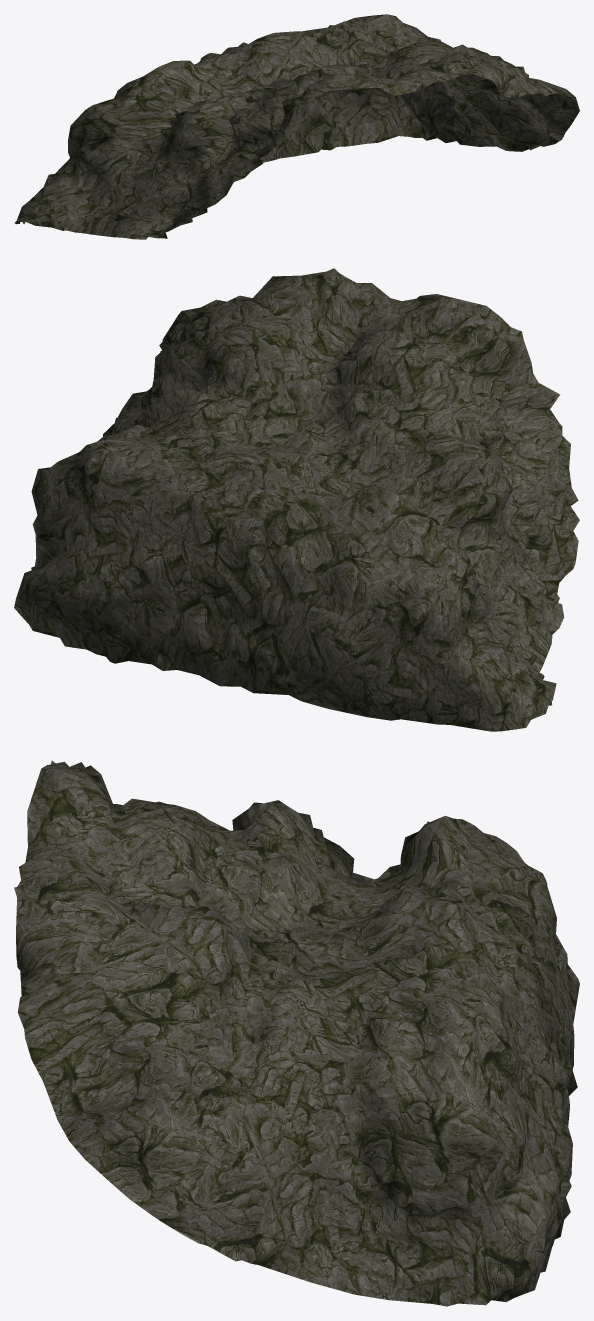
File: TI_Cliff_01_g.fbx
The picture shows the model from 3 angles, top to bottom: view 1: azimuth 30°, elevation 25°; view 2: azimuth 150°, elevation 25°; view 3: azimuth 270°, elevation 25°; orthographic projection. The views are drawn at different scales.
Visible parts, largest first — view 1: TI_Cliff_01_g; view 2: TI_Cliff_01_g; view 3: TI_Cliff_01_g.
Boxes of the visible parts, x1=… form: TI_Cliff_01_g: x1=14, y1=14, x2=579, y2=239; TI_Cliff_01_g: x1=14, y1=268, x2=579, y2=731; TI_Cliff_01_g: x1=14, y1=760, x2=579, y2=1306.
Bounding box in the file's own units: 40.67 × 18.59 × 26.42.
